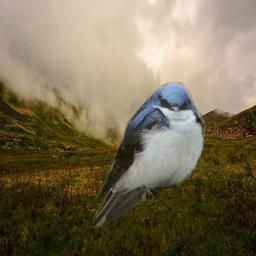Swallow: (88, 81, 207, 229)
